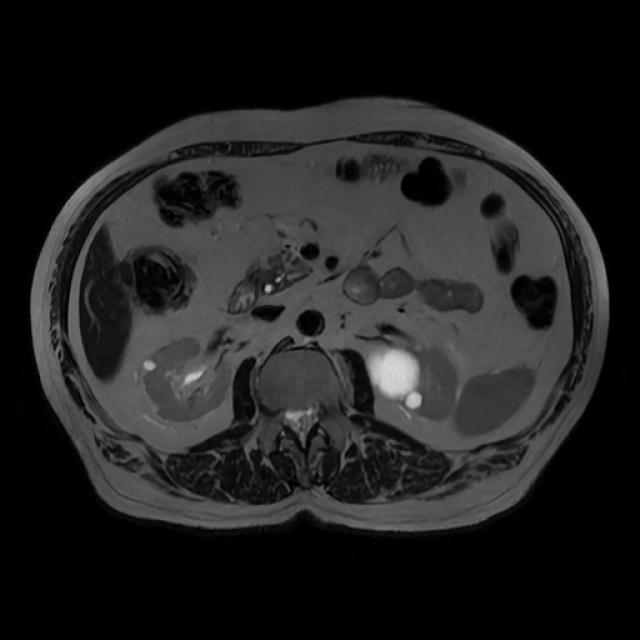sag: (145, 338, 229, 421)
sol: (369, 345, 458, 424)
